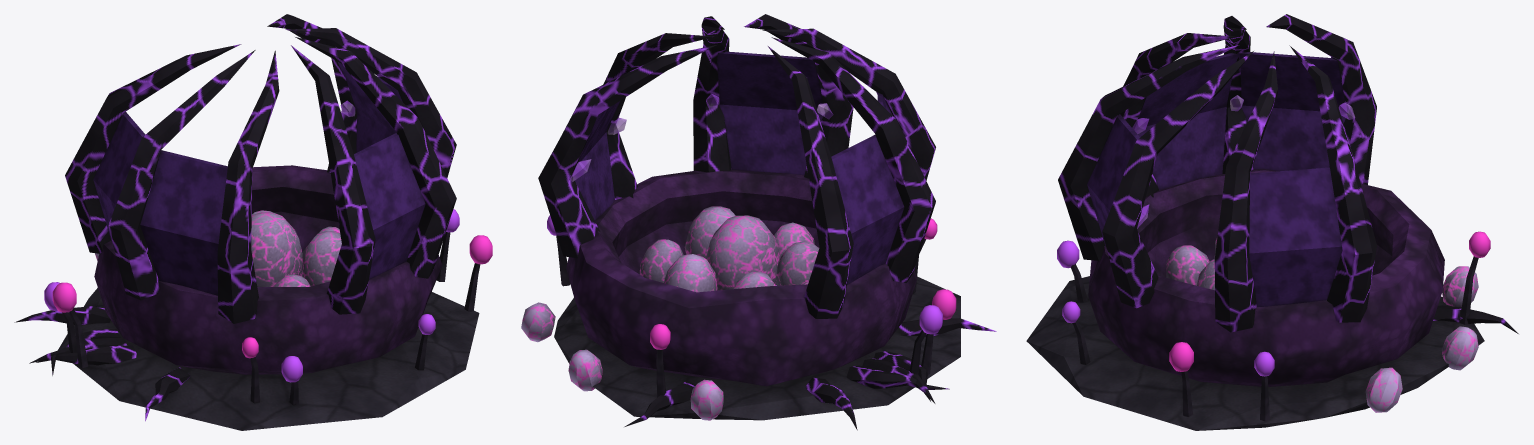
The model's file is nido_monstruo.fbx.
The picture shows the model from 3 angles, left to right: view 1: azimuth 30°, elevation 25°; view 2: azimuth 150°, elevation 25°; view 3: azimuth 270°, elevation 25°; orthographic projection. The views are drawn at different scales.
Parts seen in each view (by area): view 1: nido_monstruo, nido_monstruo_neon_magenta, nido_monstruo_neon; view 2: nido_monstruo, nido_monstruo_neon_magenta, nido_monstruo_cristal, nido_monstruo_neon; view 3: nido_monstruo, nido_monstruo_neon, nido_monstruo_neon_magenta, nido_monstruo_cristal.
Part boxes in pixels (x1,y1,x2,y2): nido_monstruo: (14, 14, 480, 430); nido_monstruo_neon_magenta: (52, 235, 492, 358); nido_monstruo_neon: (44, 209, 459, 382); nido_monstruo: (521, 14, 996, 430); nido_monstruo_neon_magenta: (650, 218, 956, 349); nido_monstruo_cristal: (570, 93, 833, 181); nido_monstruo_neon: (547, 215, 942, 334); nido_monstruo: (1026, 14, 1518, 430); nido_monstruo_neon: (1057, 240, 1274, 376); nido_monstruo_neon_magenta: (1169, 231, 1490, 371); nido_monstruo_cristal: (1132, 95, 1354, 228).
Bounding box in the file's own units: 26.9 × 20.04 × 27.54.
3 materials, 3 textured.
